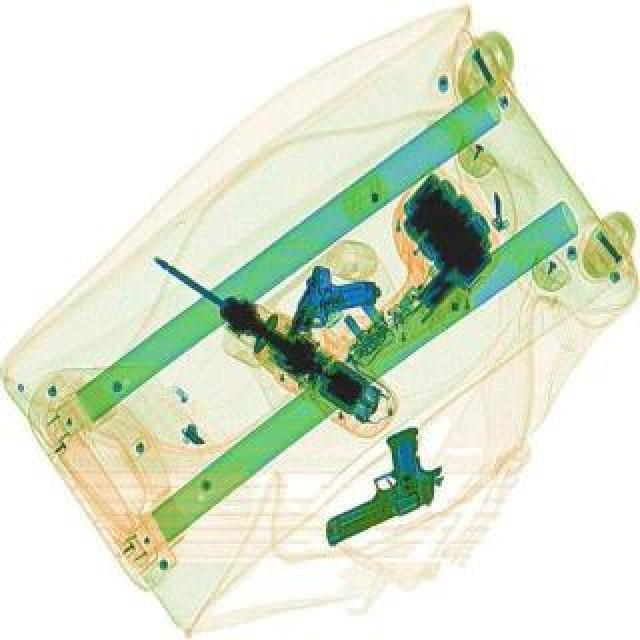gun: (292, 420, 456, 548), (276, 258, 382, 370)
